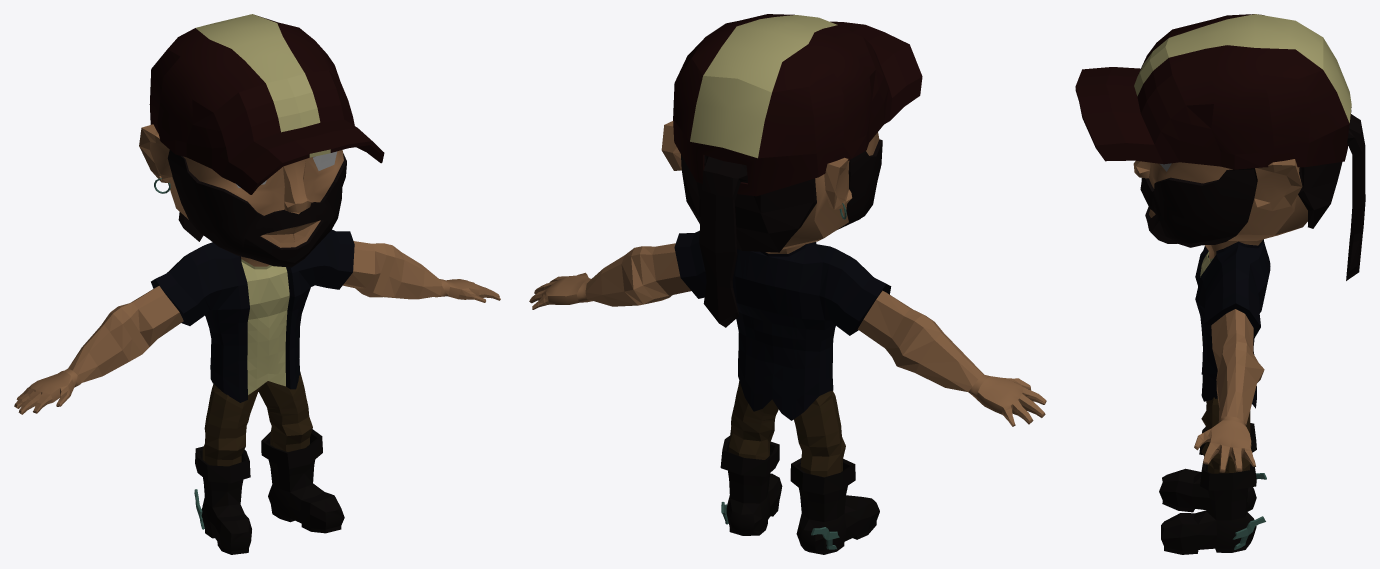
File: VamoVamo.FBX
The picture shows the model from 3 angles, left to right: view 1: azimuth 30°, elevation 25°; view 2: azimuth 150°, elevation 25°; view 3: azimuth 270°, elevation 25°; orthographic projection. The views are drawn at different scales.
Parts seen in each view (by area): view 1: Cabet Final, Pit001, BotaDch, Pantalons; view 2: Cabet Final, Pit001, BotaDch, Pantalons; view 3: Cabet Final, Pit001, BotaDch, Pantalons, ExcusaTPIzq.
Boxes of the visible parts, left/top/right/bottom form: Cabet Final: left=139, top=14, right=384, bottom=267; Pit001: left=14, top=229, right=500, bottom=414; BotaDch: left=195, top=429, right=344, bottom=554; Pantalons: left=202, top=371, right=312, bottom=466; Cabet Final: left=661, top=14, right=922, bottom=327; Pit001: left=529, top=231, right=1046, bottom=426; BotaDch: left=720, top=436, right=879, bottom=554; Pantalons: left=728, top=381, right=845, bottom=477; Cabet Final: left=1075, top=14, right=1365, bottom=280; Pit001: left=1194, top=239, right=1270, bottom=472; BotaDch: left=1159, top=423, right=1256, bottom=554; Pantalons: left=1201, top=397, right=1250, bottom=473; ExcusaTPIzq: left=1233, top=516, right=1265, bottom=549.
Bounding box in the file's own units: 367 × 355 × 187.
